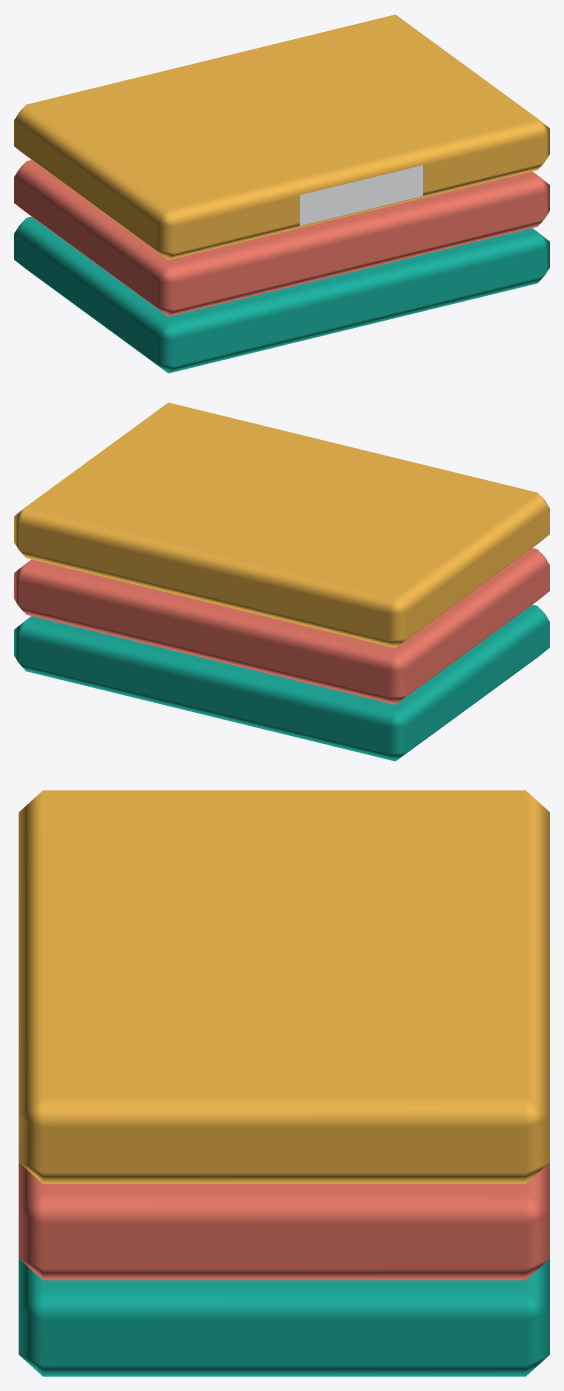
Rendered from CM_Product_TShirtStack.fbx.
3 renders of one model, top to bottom at view 1: azimuth 30°, elevation 25°; view 2: azimuth 150°, elevation 25°; view 3: azimuth 270°, elevation 25°, orthographic. The views are drawn at different scales.
Visible parts, largest first — view 1: TShirtStack; view 2: TShirtStack; view 3: TShirtStack.
Boxes of the visible parts, box(x1,y1,x2,y2) form: TShirtStack: box(14, 14, 549, 373); TShirtStack: box(14, 402, 549, 761); TShirtStack: box(18, 790, 549, 1376).
Bounding box in the file's own units: 1.6 × 1.11 × 0.64.
1 material, 1 textured.
